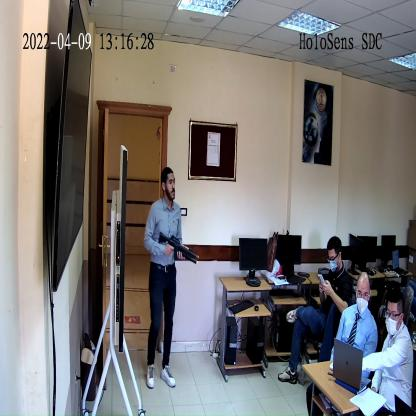handgun: (157, 231, 195, 268)
